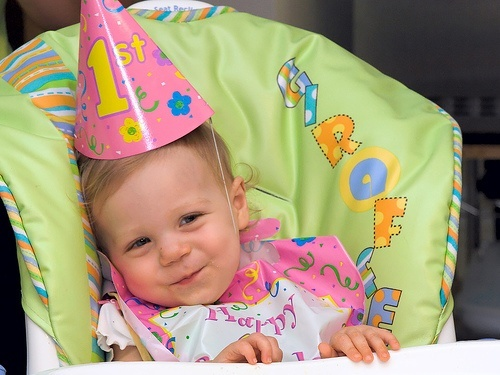head: (83, 98, 255, 309)
person: (16, 0, 480, 371)
